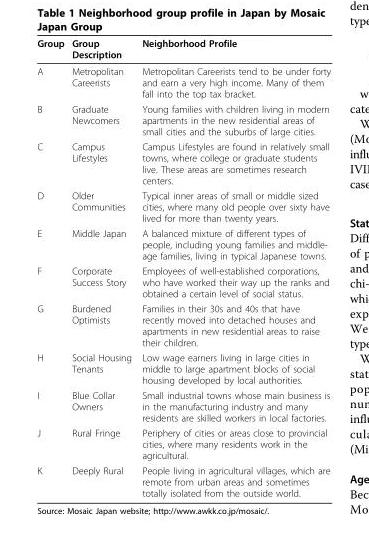table: (36, 37, 330, 498)
table column: (136, 37, 330, 498), (67, 37, 136, 498), (36, 37, 67, 498)
table column header: (36, 37, 330, 62)
table row: (36, 138, 330, 187), (36, 300, 330, 349), (36, 62, 330, 101), (36, 187, 330, 225), (36, 262, 330, 300), (36, 349, 330, 387), (36, 424, 330, 462), (36, 101, 330, 138), (36, 225, 330, 262), (36, 387, 330, 424), (36, 462, 330, 498), (36, 37, 330, 62)
